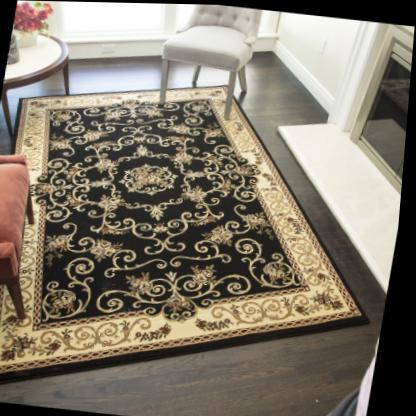Carpet: (0, 85, 375, 384)
